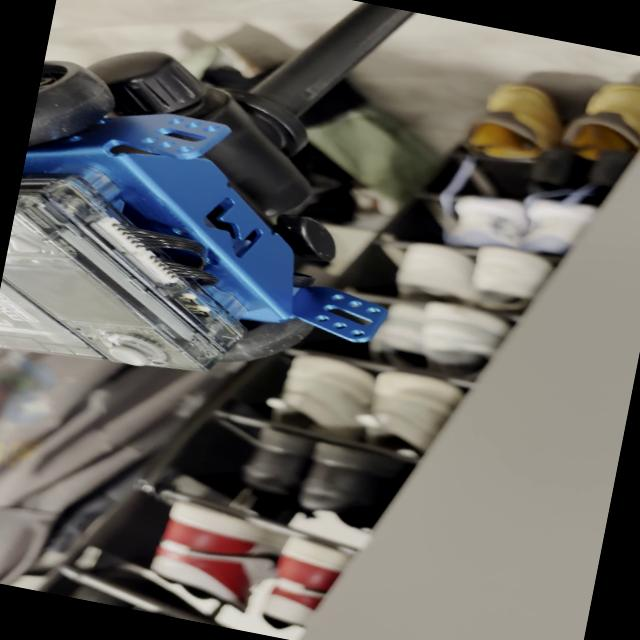mbot-detection: (0, 54, 438, 431)
